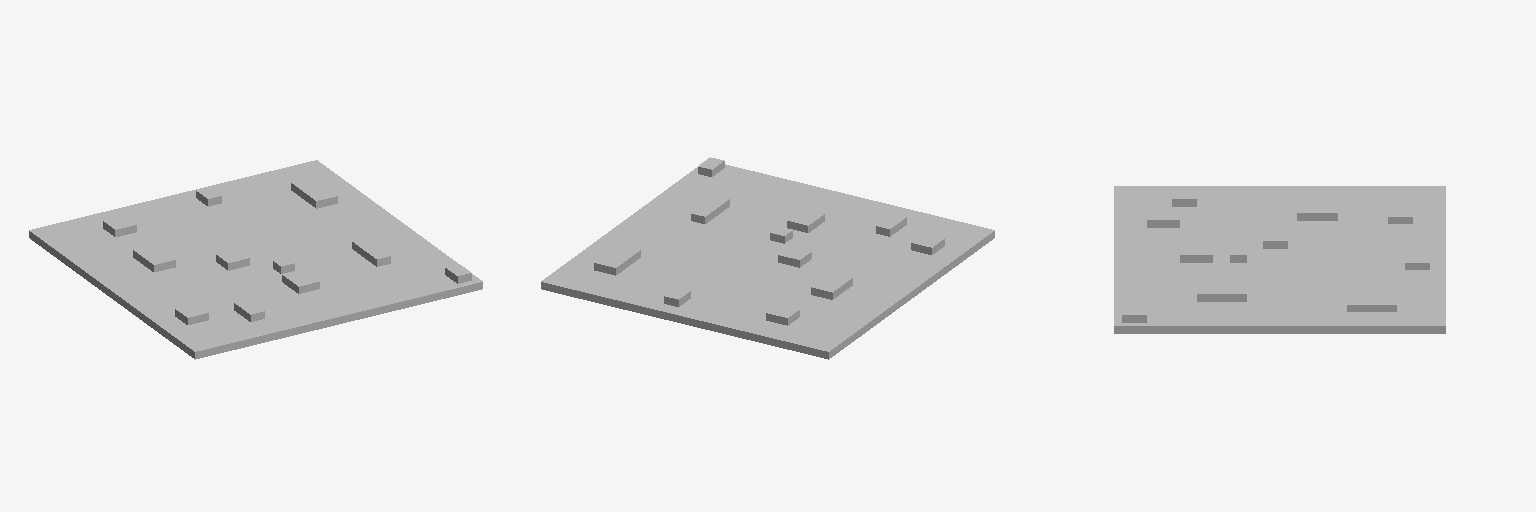
File: CobbleStone.obj
3 views of the same model, side by side, from view 1: azimuth 30°, elevation 25°; view 2: azimuth 150°, elevation 25°; view 3: azimuth 270°, elevation 25° (orthographic).
Parts seen in each view (by area): view 1: object 1; view 2: object 1; view 3: object 1.
Boxes of the visible parts, box(x1,y1,x2,y2) form: object 1: box(29, 160, 482, 359); object 1: box(541, 157, 994, 359); object 1: box(1114, 186, 1445, 333).
Size of the model in its own units: 4 by 0.2 by 4.